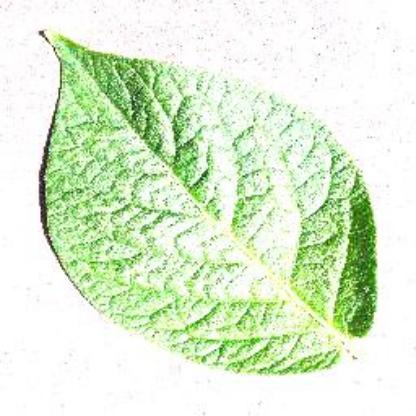Healthy-plant: (39, 25, 381, 373)
